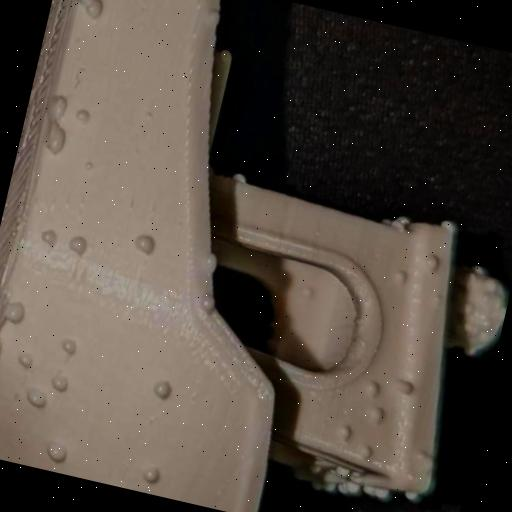blobs: (40, 84, 76, 129), (38, 432, 79, 468), (0, 295, 32, 333), (22, 378, 54, 414), (333, 471, 368, 502), (362, 474, 398, 504), (134, 232, 166, 264), (64, 230, 94, 264), (37, 220, 67, 254), (140, 460, 168, 491), (332, 418, 362, 446), (150, 376, 178, 406), (44, 127, 72, 157), (57, 336, 85, 364), (70, 100, 96, 130), (368, 400, 394, 428), (48, 369, 74, 397), (354, 433, 378, 462), (203, 248, 226, 278), (396, 374, 418, 404), (198, 288, 220, 318), (84, 0, 110, 25), (12, 346, 36, 373), (0, 331, 14, 377), (393, 263, 416, 289), (401, 487, 423, 512), (228, 165, 249, 189), (424, 250, 442, 275), (80, 154, 98, 174), (366, 380, 384, 399), (73, 0, 97, 13)
